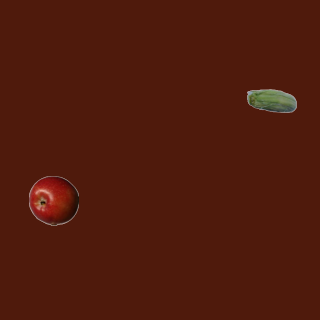Apple Braeburn: (28, 175, 78, 225)
Corn Husk: (246, 77, 296, 127)
